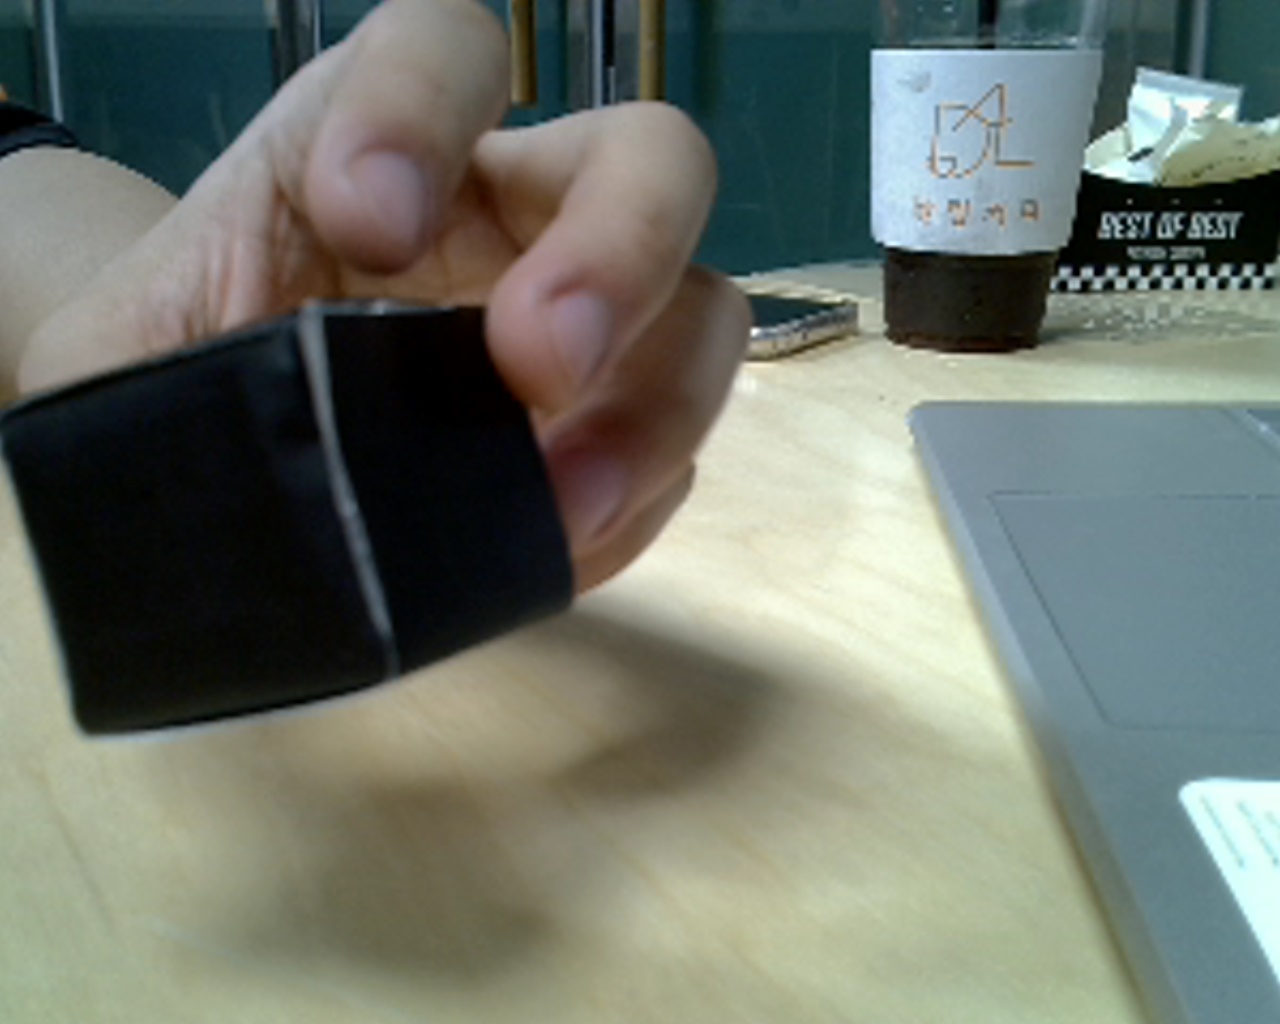blackbox: (5, 241, 652, 773)
